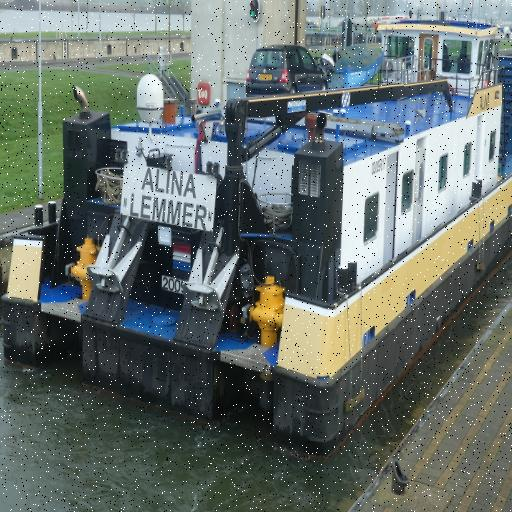tugboat: (1, 11, 512, 471)
